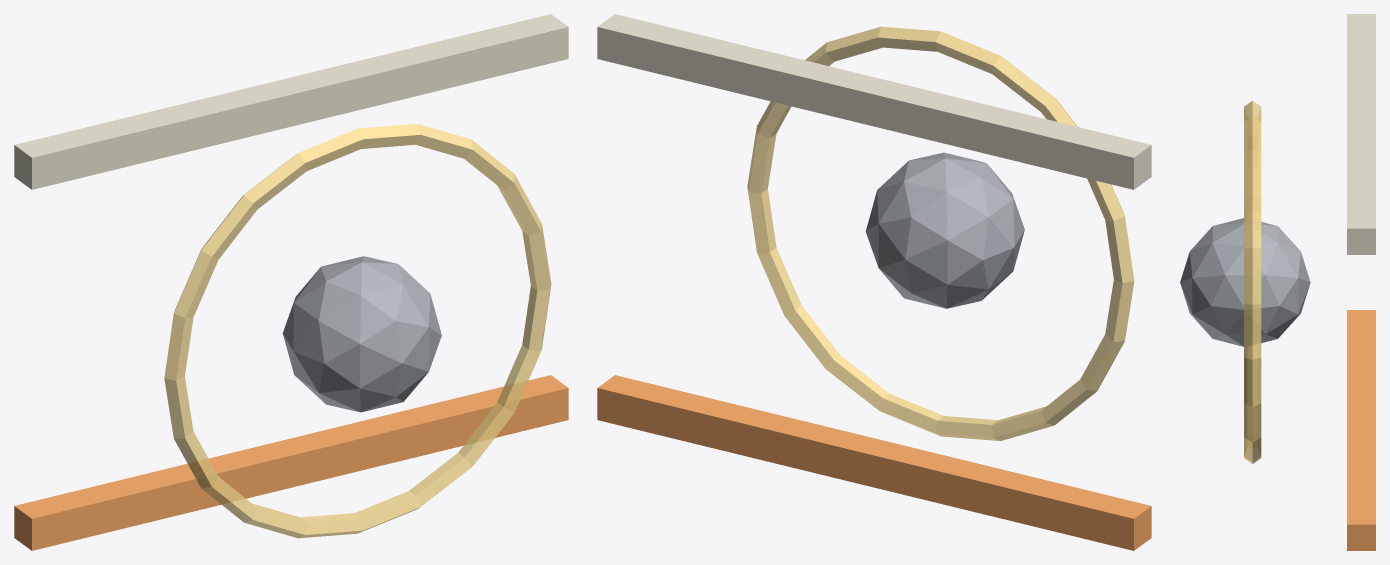
The model's file is 03_material_polish_overlay_3.glb.
3 views of the same model, side by side, from view 1: azimuth 30°, elevation 25°; view 2: azimuth 150°, elevation 25°; view 3: azimuth 270°, elevation 25° (orthographic). The views are drawn at different scales.
Parts seen in each view (by area): view 1: polished_trim_bar_b, polished_trim_bar_a, material_preview_ring, reflective_sample_core; view 2: polished_trim_bar_a, polished_trim_bar_b, material_preview_ring, reflective_sample_core; view 3: reflective_sample_core, polished_trim_bar_a, polished_trim_bar_b, material_preview_ring.
Part boxes in pixels (x1,y1,x2,y2): polished_trim_bar_b: (14,14,568,189); polished_trim_bar_a: (14,375,568,550); material_preview_ring: (164,124,551,538); reflective_sample_core: (282,256,441,412); polished_trim_bar_a: (597,375,1151,550); polished_trim_bar_b: (597,14,1151,189); material_preview_ring: (747,26,1134,440); reflective_sample_core: (865,152,1024,308); reflective_sample_core: (1180,218,1310,346); polished_trim_bar_a: (1347,310,1375,550); polished_trim_bar_b: (1347,14,1375,254); material_preview_ring: (1244,100,1261,464).
Bounding box in the file's own units: 1.4 × 1.01 × 0.54.
